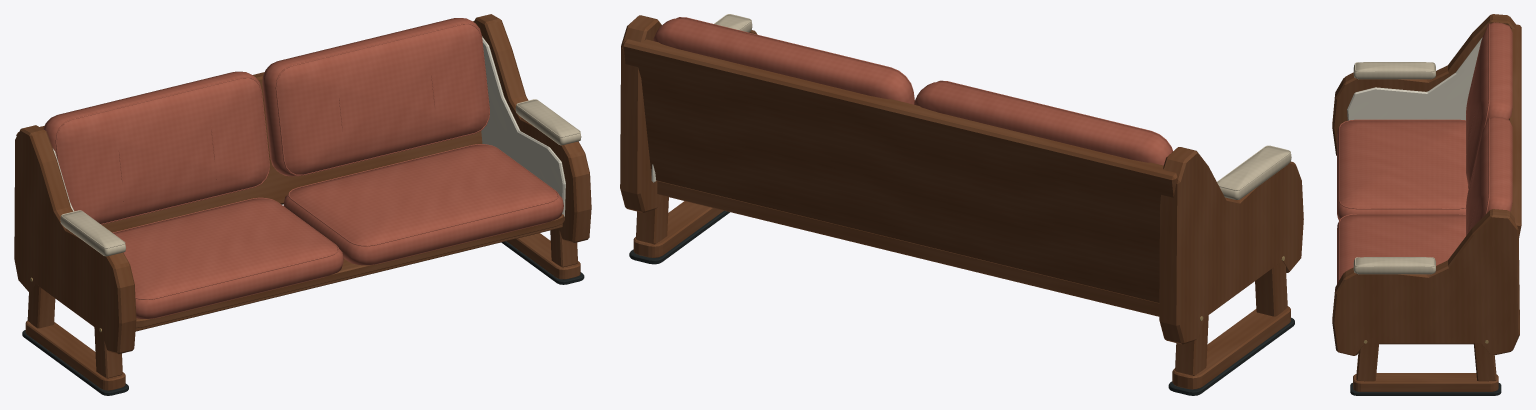
File: AST-FUR-001_day_window_bench.glb
The picture shows the model from 3 angles, left to right: view 1: azimuth 30°, elevation 25°; view 2: azimuth 150°, elevation 25°; view 3: azimuth 270°, elevation 25°; orthographic projection. The views are drawn at different scales.
Parts seen in each view (by area): view 1: AST-FUR-001_static_visual; view 2: AST-FUR-001_static_visual; view 3: AST-FUR-001_static_visual.
Boxes of the visible parts, x1,y1,x2,y2 form: AST-FUR-001_static_visual: (14, 14, 591, 395); AST-FUR-001_static_visual: (620, 14, 1303, 395); AST-FUR-001_static_visual: (1332, 14, 1521, 395).
Size of the model in its own units: 2.4 by 0.9972 by 0.9293.
6 materials, 6 textured.
